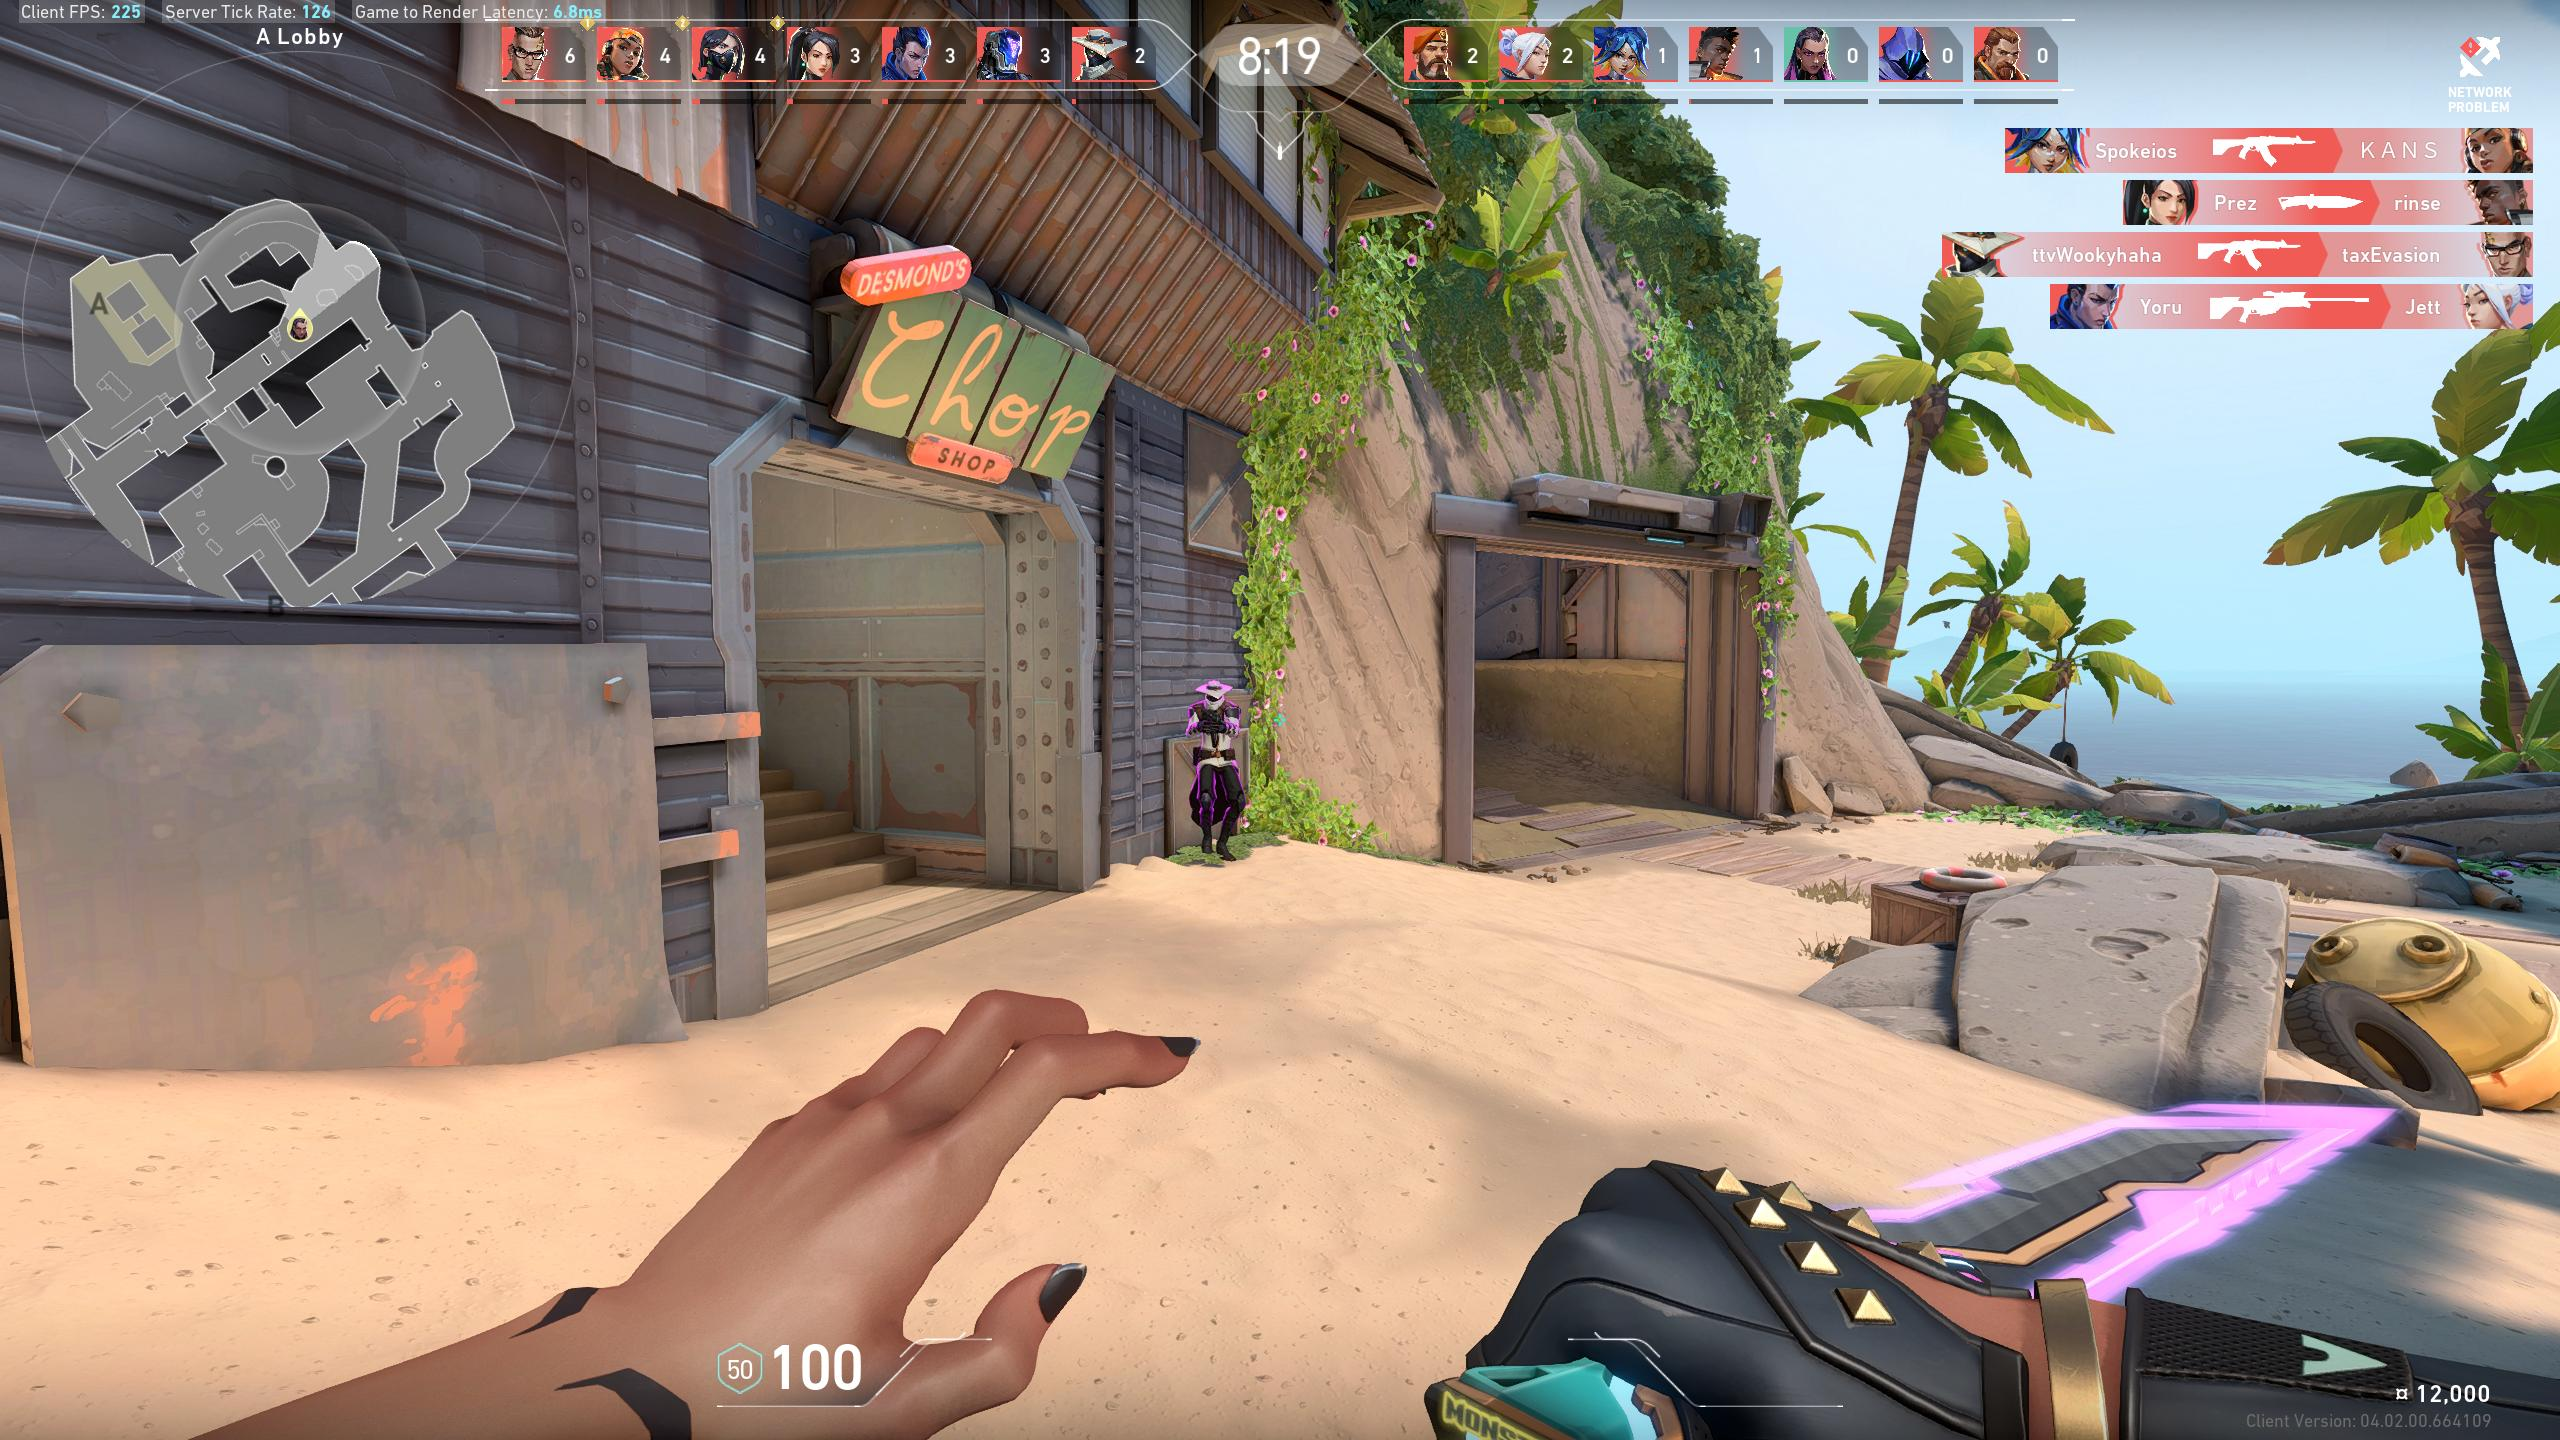enemyBody: (1203, 707, 1231, 744)
enemyHead: (1208, 687, 1220, 702)
